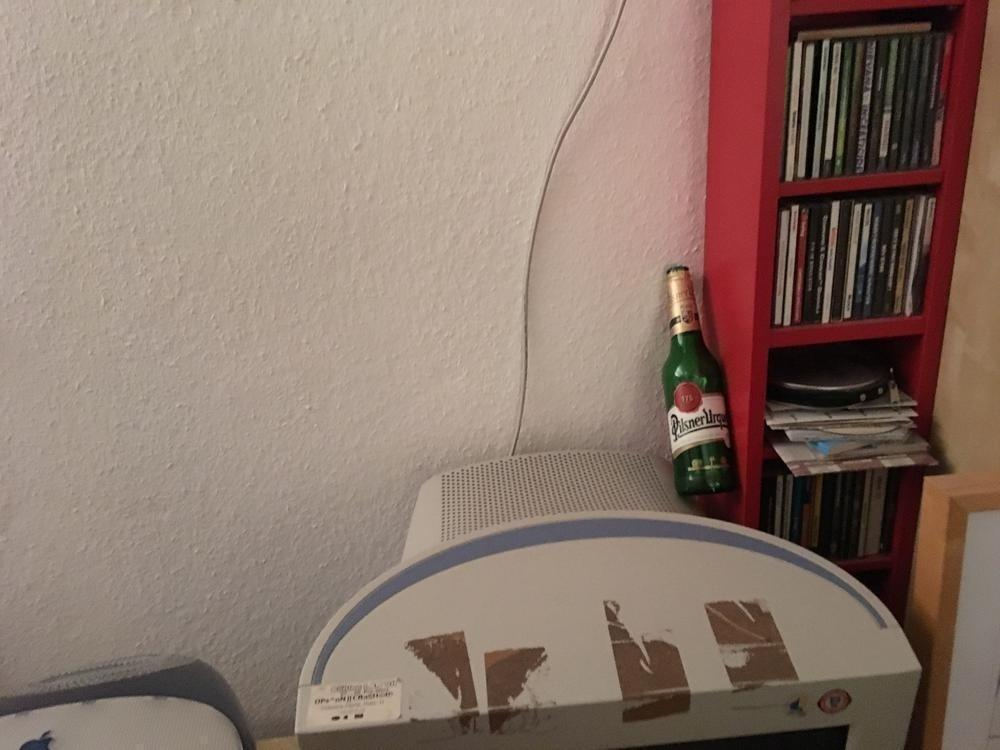bottle-glass: (660, 264, 743, 498)
